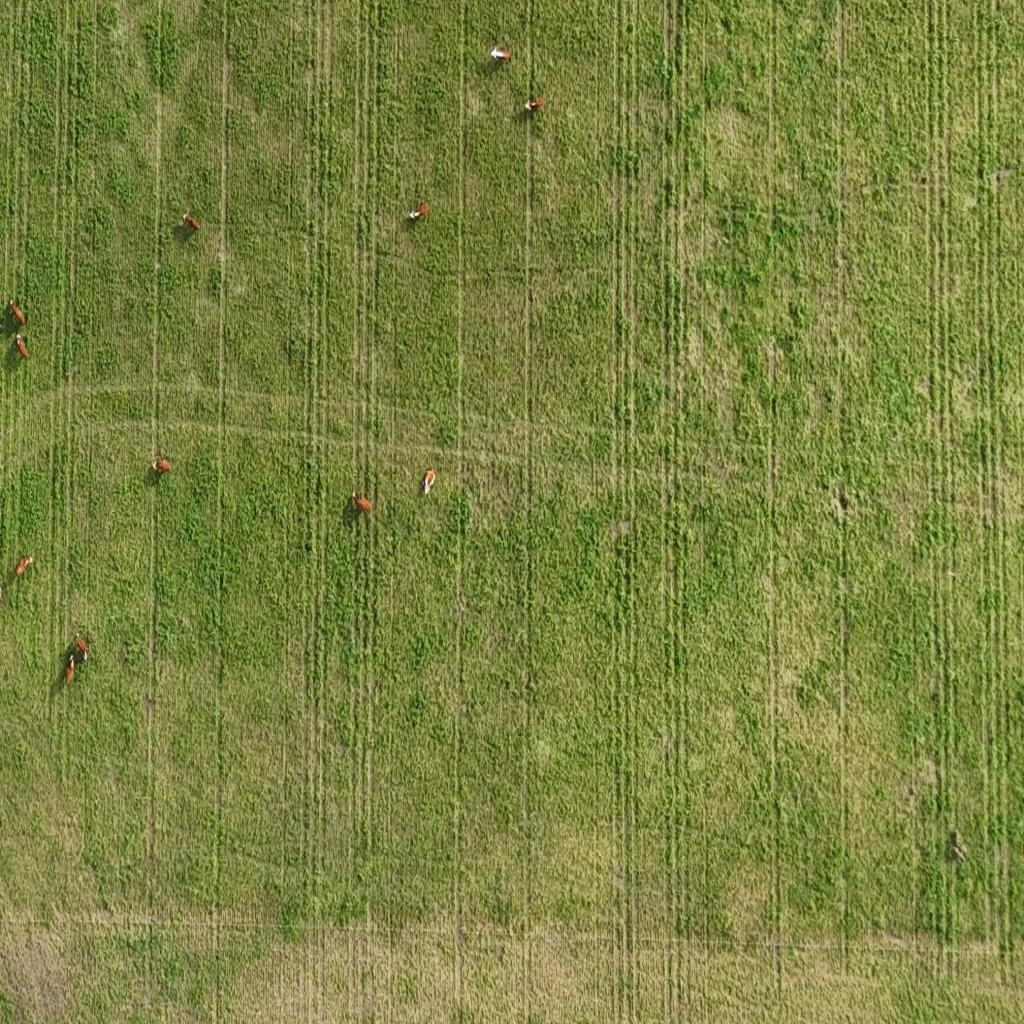cow: (406, 200, 433, 224), (521, 95, 545, 119), (490, 40, 514, 64), (62, 654, 79, 687), (352, 491, 373, 515), (74, 635, 90, 666), (422, 464, 438, 494), (152, 455, 173, 477), (9, 300, 26, 326), (15, 555, 33, 579), (16, 333, 29, 360), (183, 214, 199, 230)
